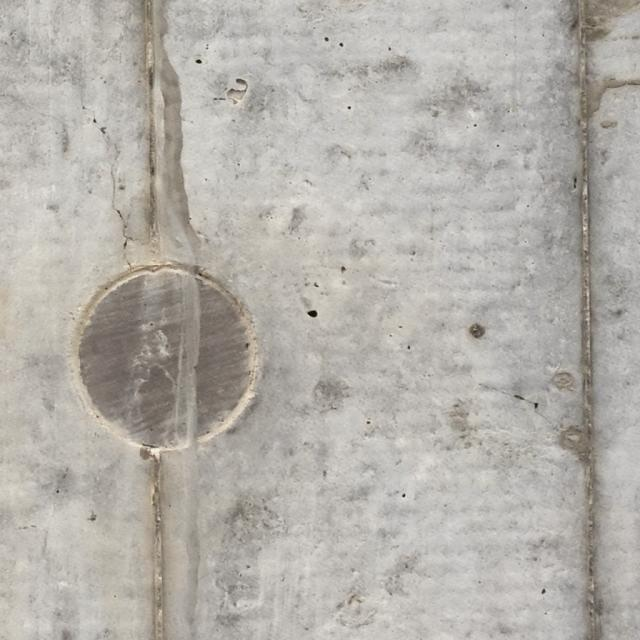D10: (74, 258, 261, 453)
